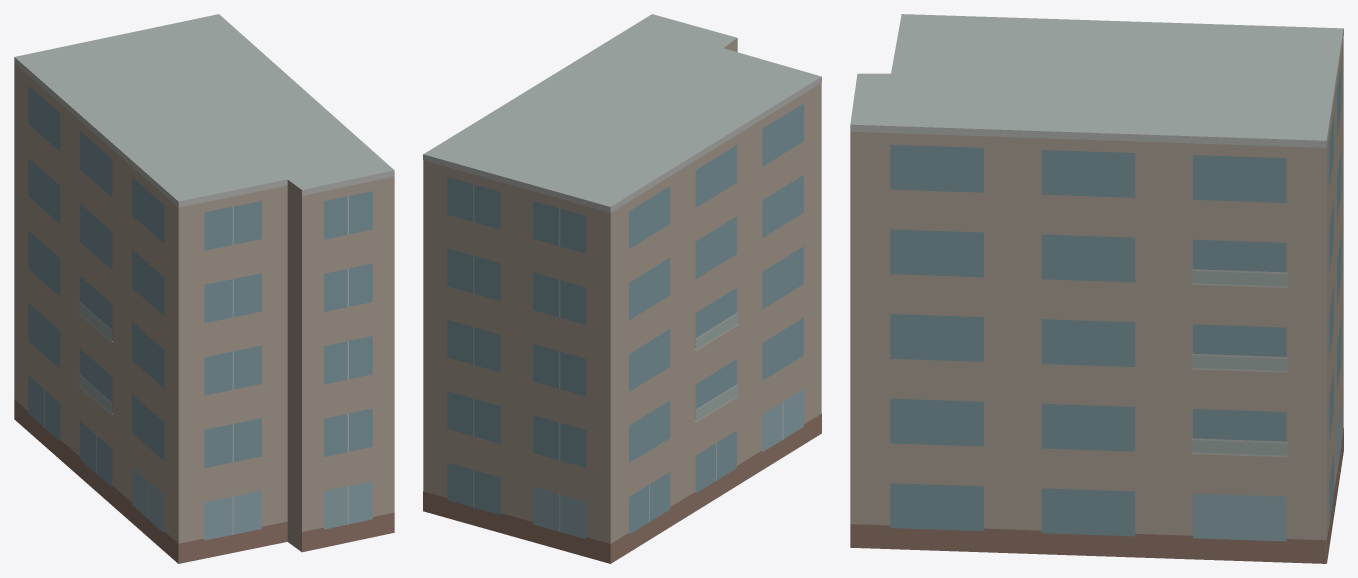
The model's file is survey-upis-32750041.glb.
3 renders of one model, left to right at view 1: azimuth 30°, elevation 25°; view 2: azimuth 150°, elevation 25°; view 3: azimuth 270°, elevation 25°, orthographic. The views are drawn at different scales.
Parts seen in each view (by area): view 1: survey-upis-32750041.tmp; view 2: survey-upis-32750041.tmp; view 3: survey-upis-32750041.tmp.
Part boxes in pixels (<box>): survey-upis-32750041.tmp: <box>14,14,394,563</box>; survey-upis-32750041.tmp: <box>423,14,821,563</box>; survey-upis-32750041.tmp: <box>850,14,1343,563</box>.
Size of the model in its own units: 9.3 by 14.45 by 15.28.
